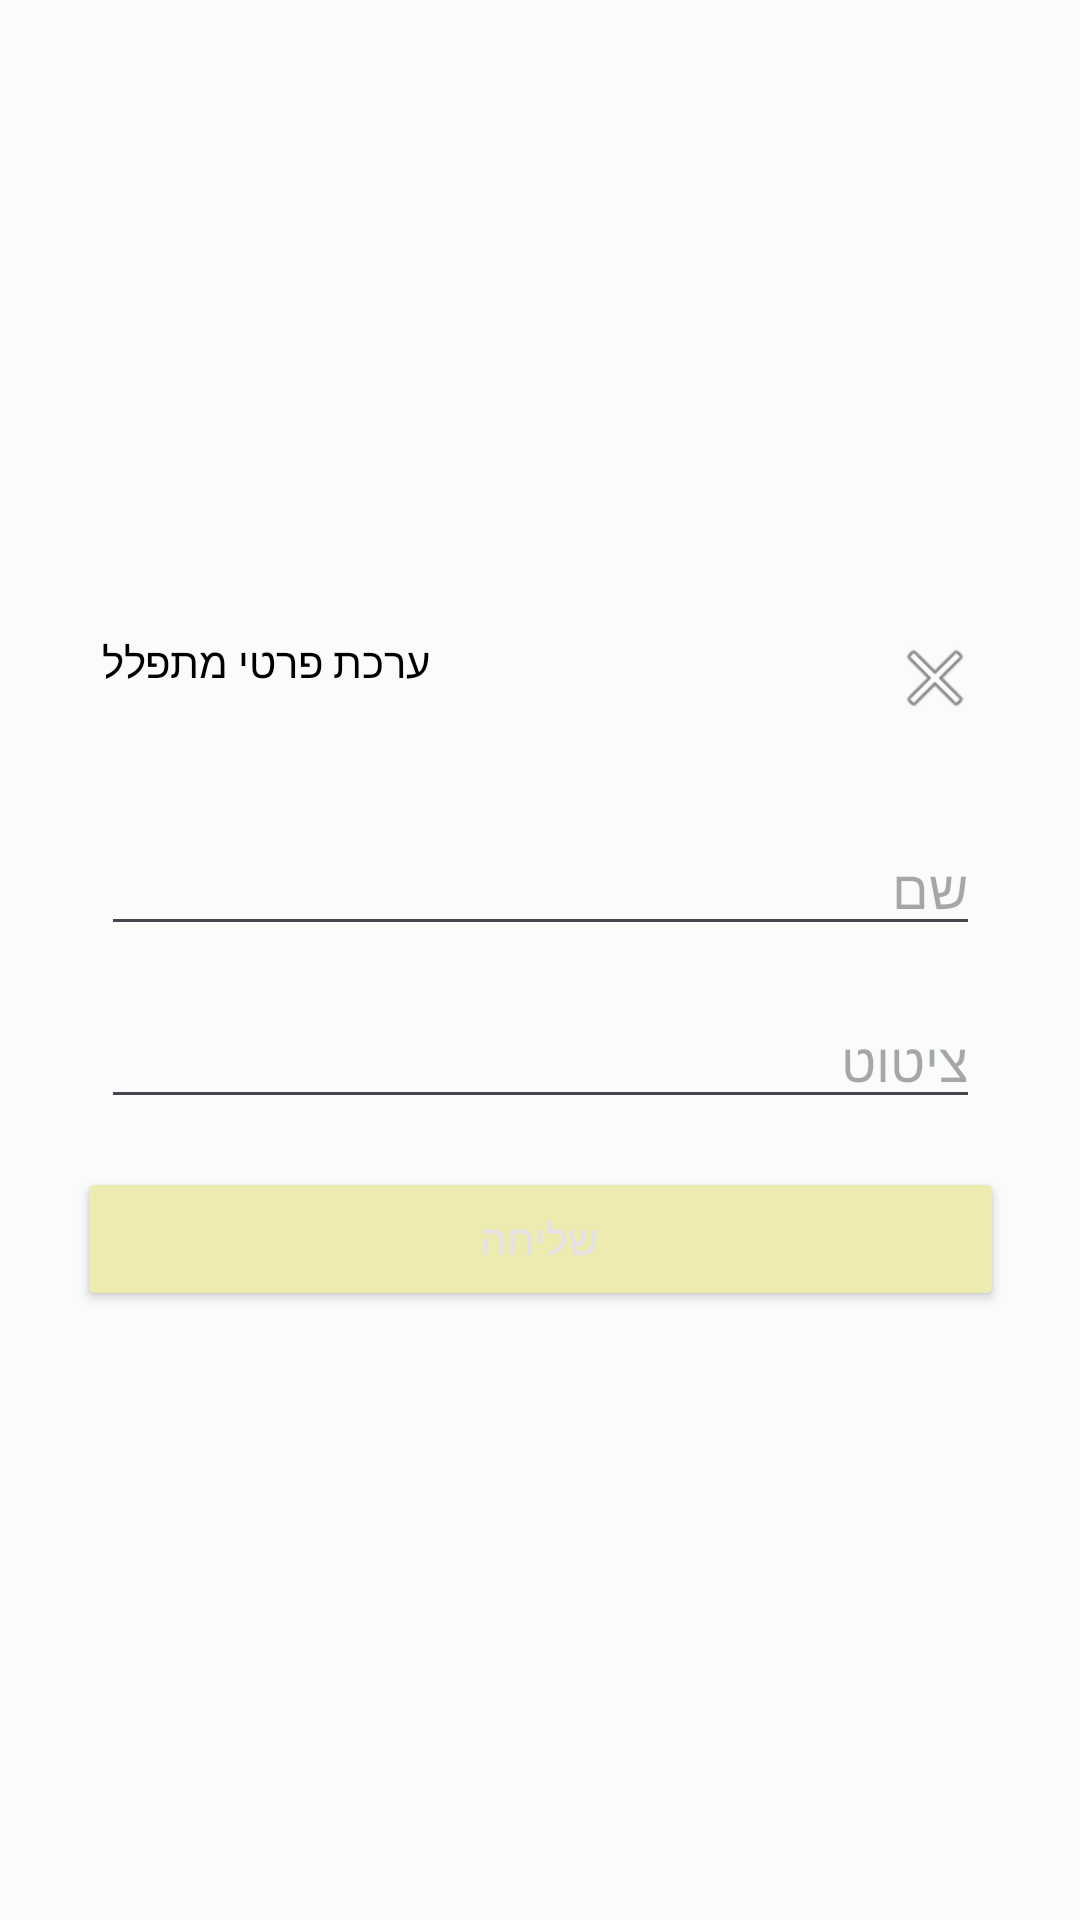

Where icons sit on this 1080w x 1920h app screen, as [x1,y1,x2,y2]:
close clear cancel: [907,650,963,706]
